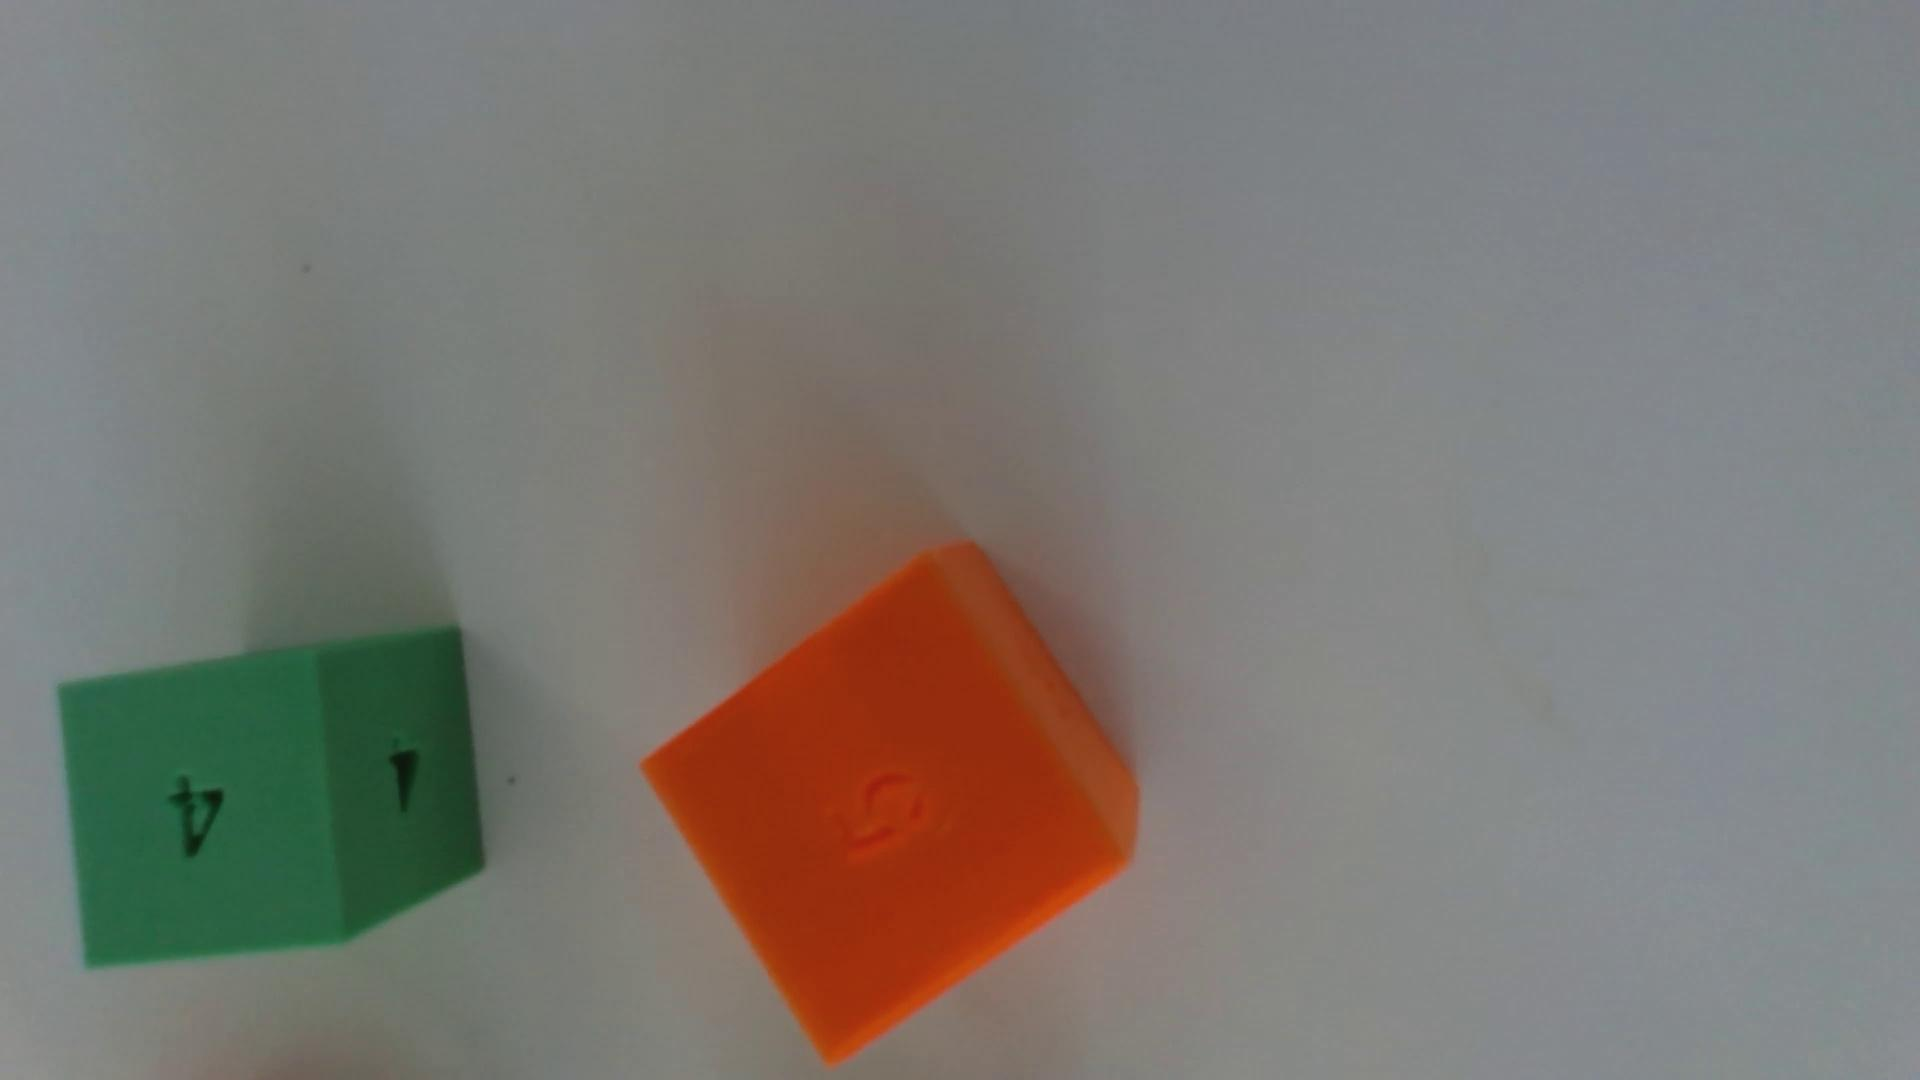green: (58, 626, 484, 967)
orange: (645, 541, 1141, 1064)
